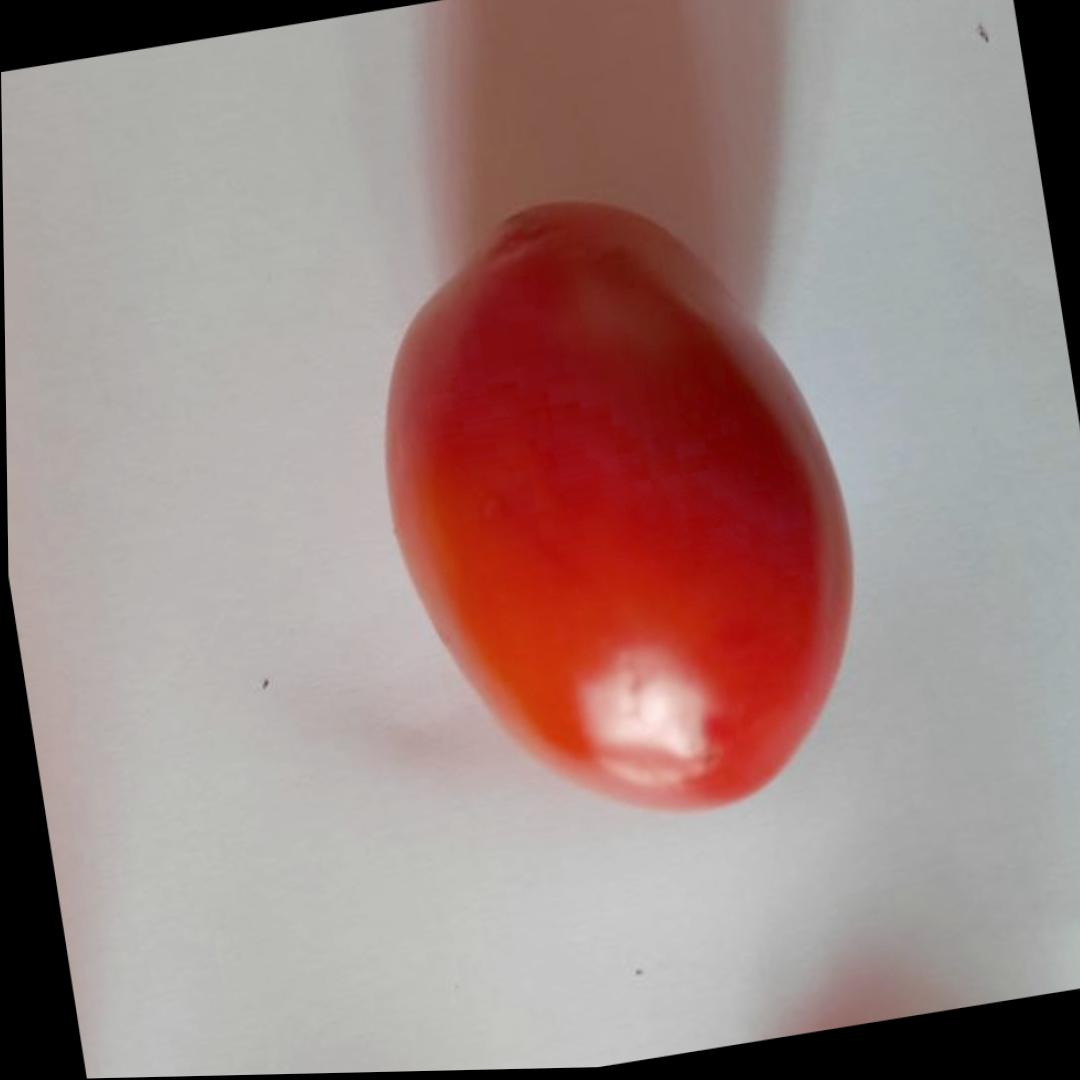matang: (344, 156, 893, 859)
